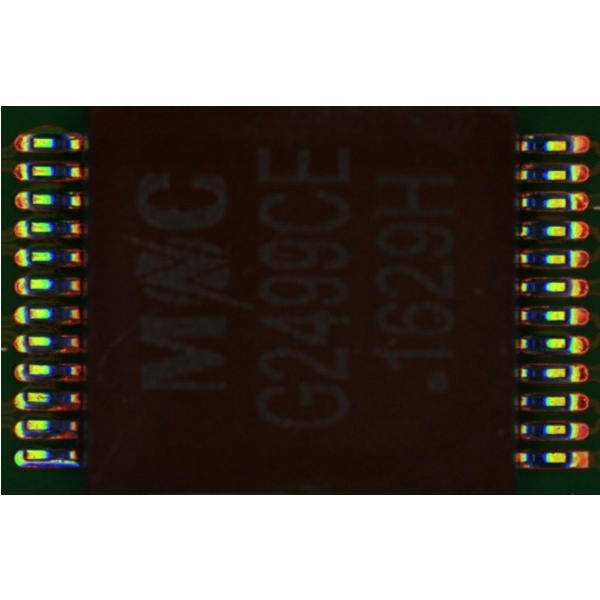Bad_qiaojiao: (29, 460, 78, 466)
